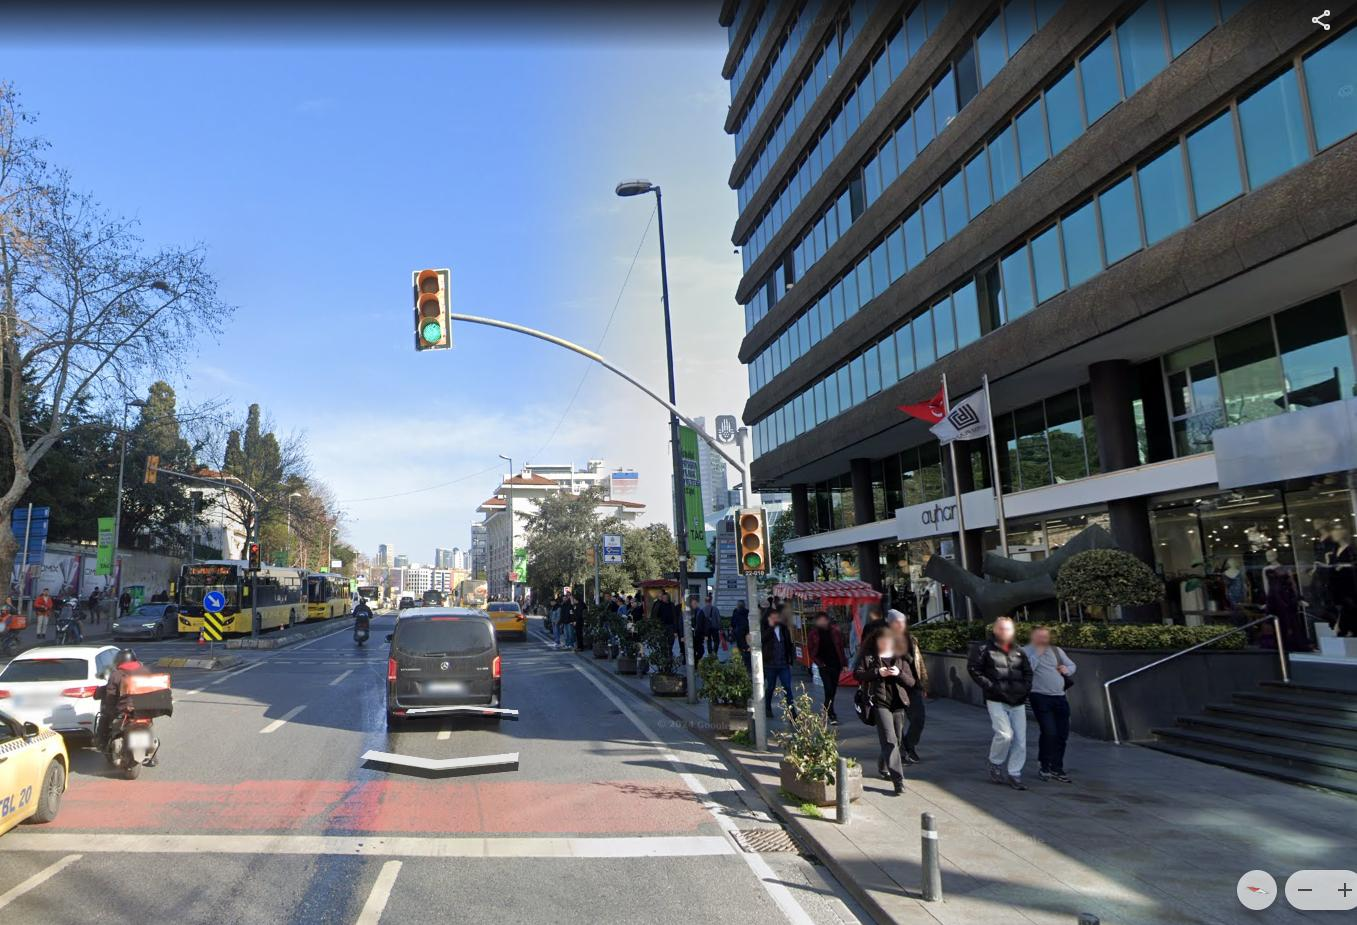greenlight: (417, 270, 445, 343), (739, 513, 766, 570)
